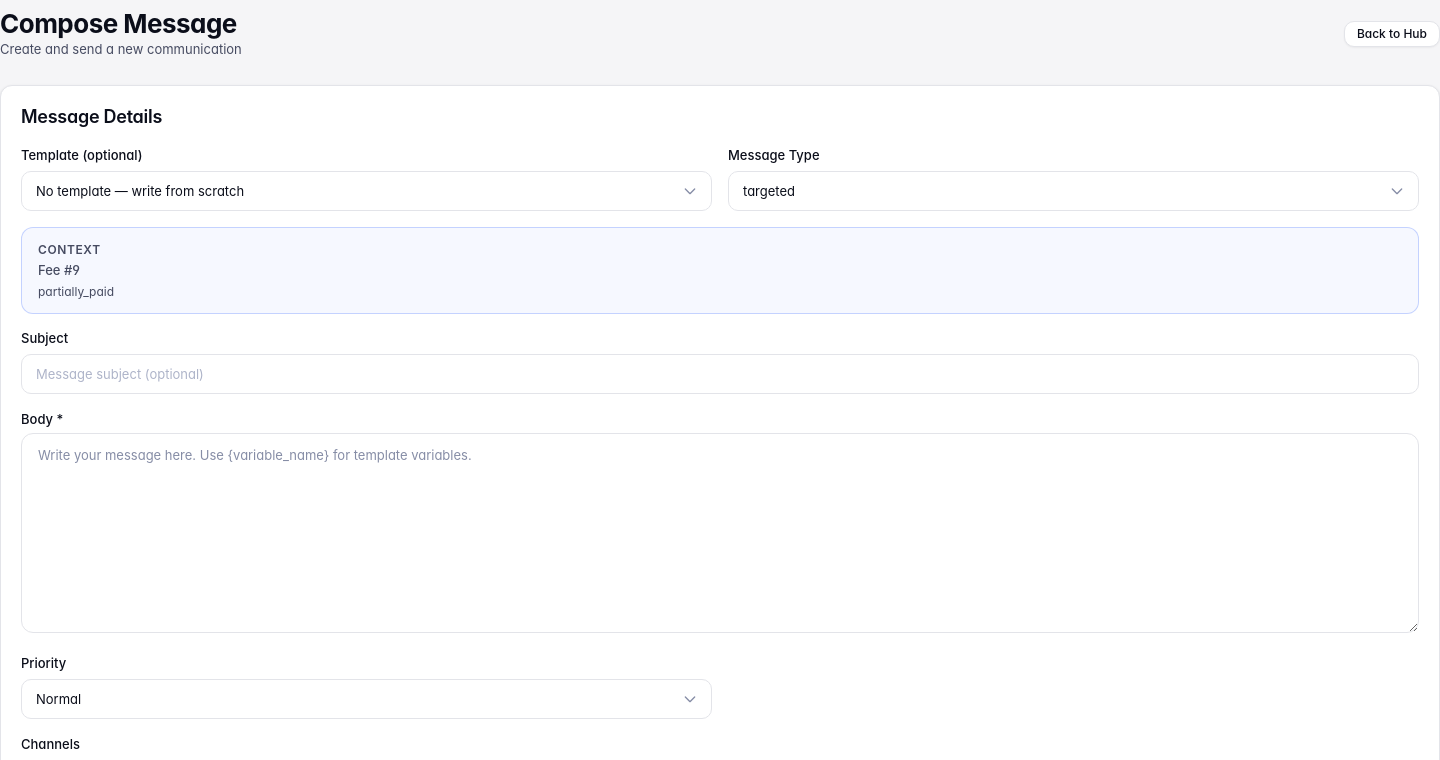
Test case: Composer — contextual communications (P15) › renders a template preview with the live context variables
Expected: the text "Fee #9" is shown, [38, 262, 80, 278]
# select the template
Select "Template 1" in the dropdown labelled "Template (optional)": (366, 191) [21, 171, 712, 211]
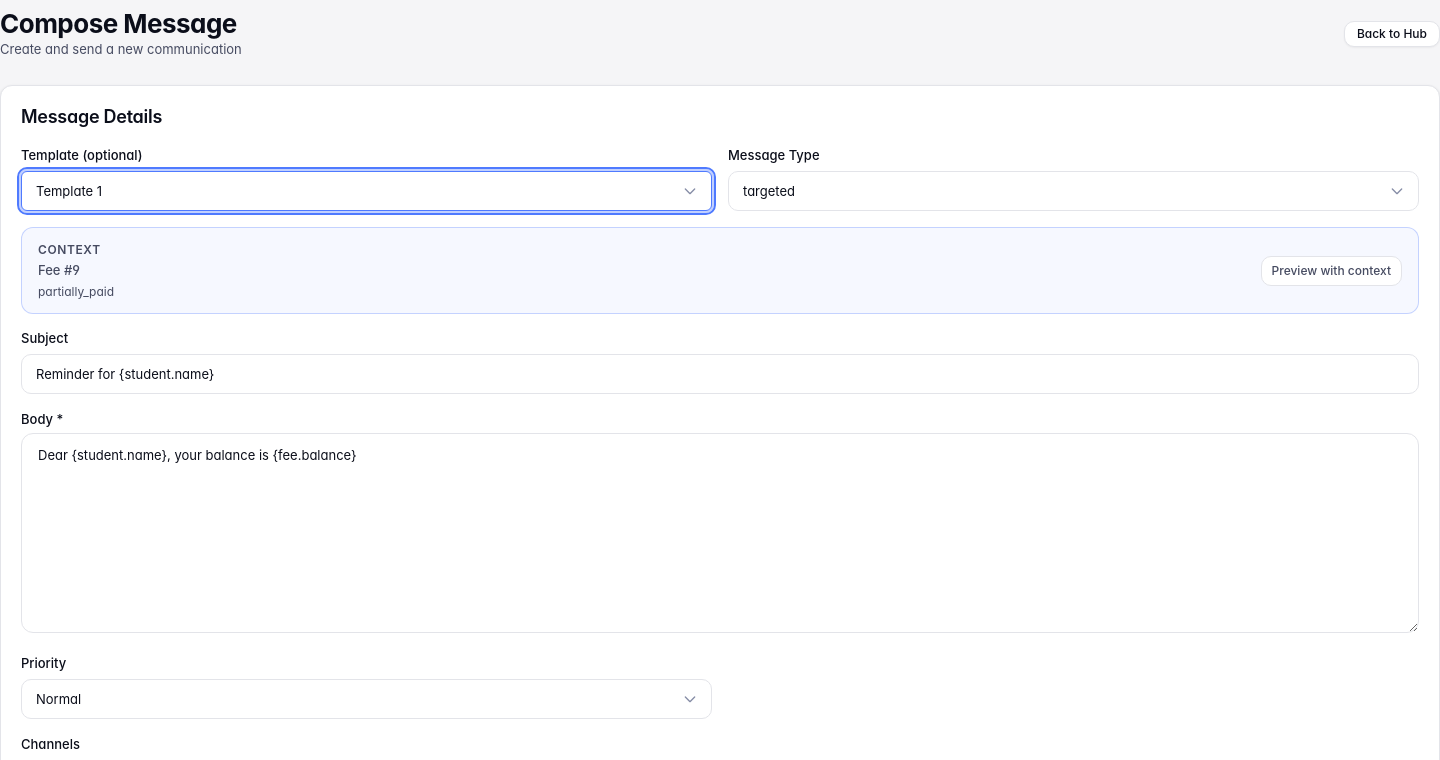
Click the button "Preview with context": (1331, 271) [1260, 256, 1402, 286]
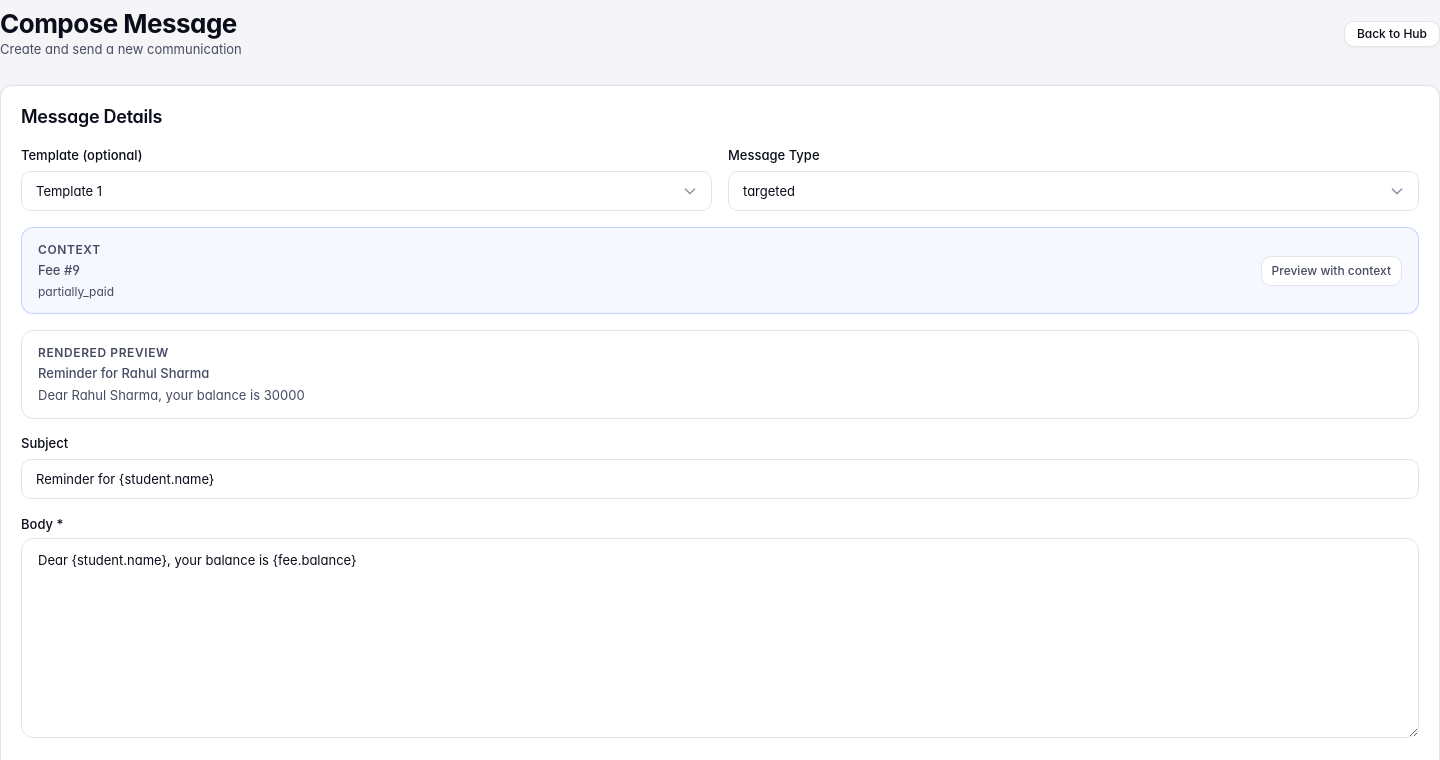
Expected: the text "Dear Rahul Sharma, your balance is 30000" is shown, [38, 387, 305, 403]
Expected: the text "Rendered preview" is shown, [38, 345, 169, 360]
